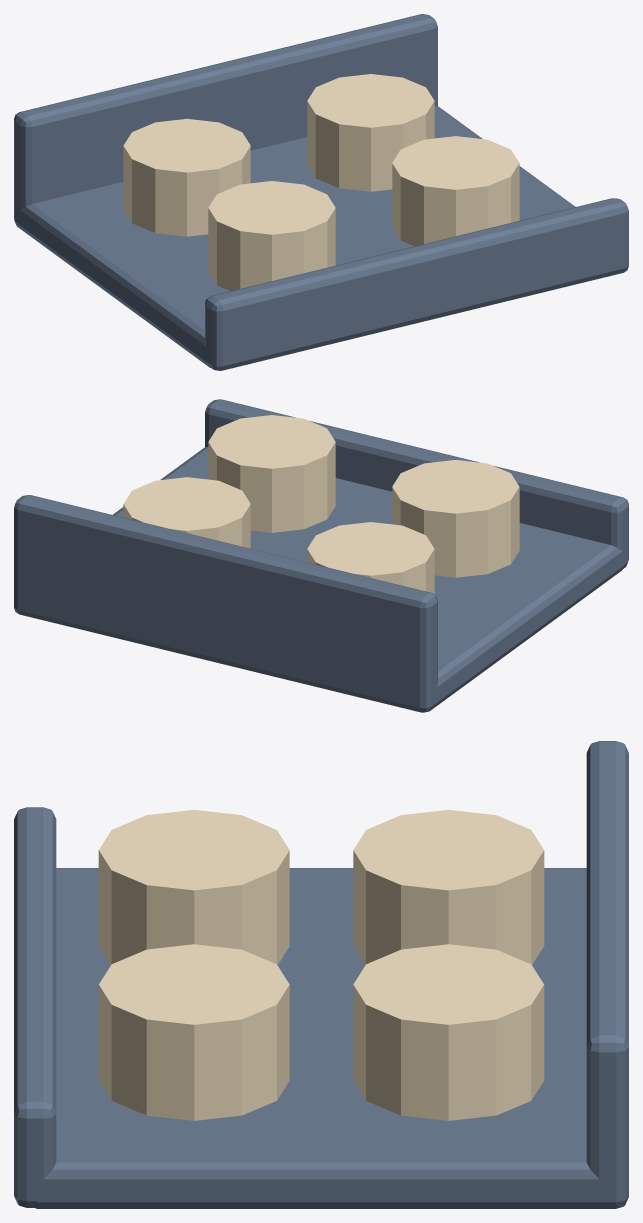
The model's file is drink_tray.glb.
3 views of the same model, one above another, from view 1: azimuth 30°, elevation 25°; view 2: azimuth 150°, elevation 25°; view 3: azimuth 270°, elevation 25° (orthographic). The views are drawn at different scales.
Visible parts, largest first — view 1: drink_tray_slate, drink_tray_peg; view 2: drink_tray_slate, drink_tray_peg; view 3: drink_tray_slate, drink_tray_peg.
Part boxes in pixels (left/top/right/bottom): drink_tray_slate: left=14, top=14, right=628, bottom=370; drink_tray_peg: left=123, top=74, right=519, bottom=290; drink_tray_slate: left=14, top=399, right=628, bottom=712; drink_tray_peg: left=123, top=415, right=519, bottom=593; drink_tray_slate: left=14, top=741, right=628, bottom=1208; drink_tray_peg: left=98, top=809, right=544, bottom=1120.
Bounding box in the file's own units: 0.34 × 0.09 × 0.29.
